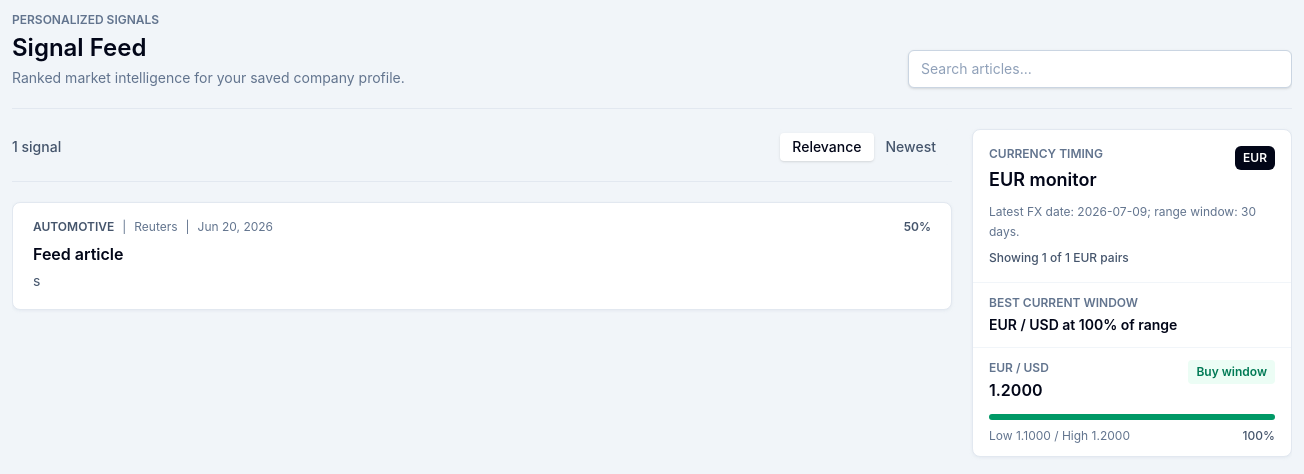
FeedView › shows search results after submitting a query
Expected: the heading "Feed article" is shown, [33, 244, 124, 264]
Type "tariff" into the field labelled "Search articles" at (1100, 69), box [908, 50, 1292, 88]
Then press Enter
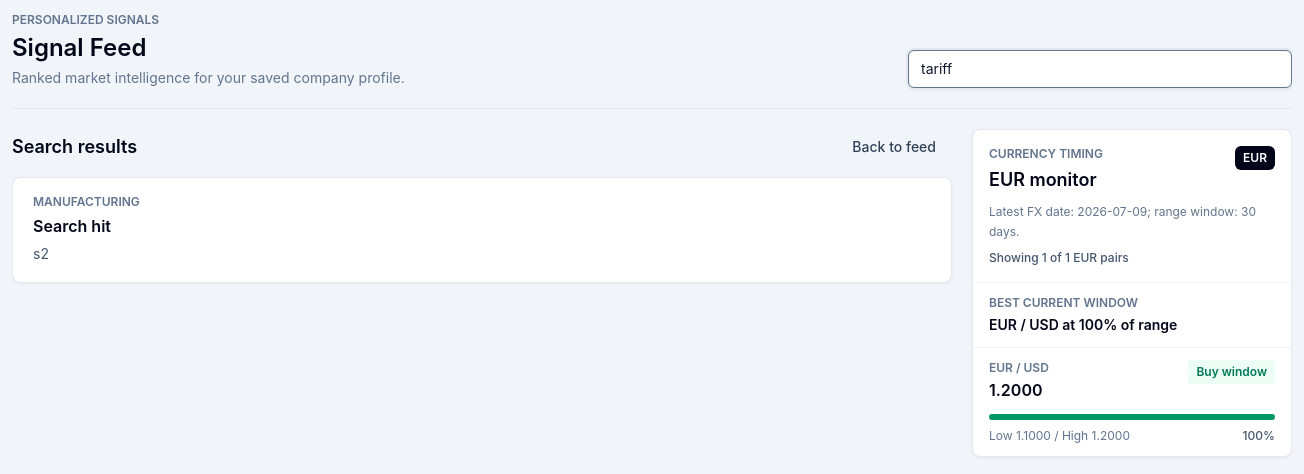
Now the heading "Search hit" is shown, box [33, 216, 111, 236]
Now the link "Feed article" is gone
